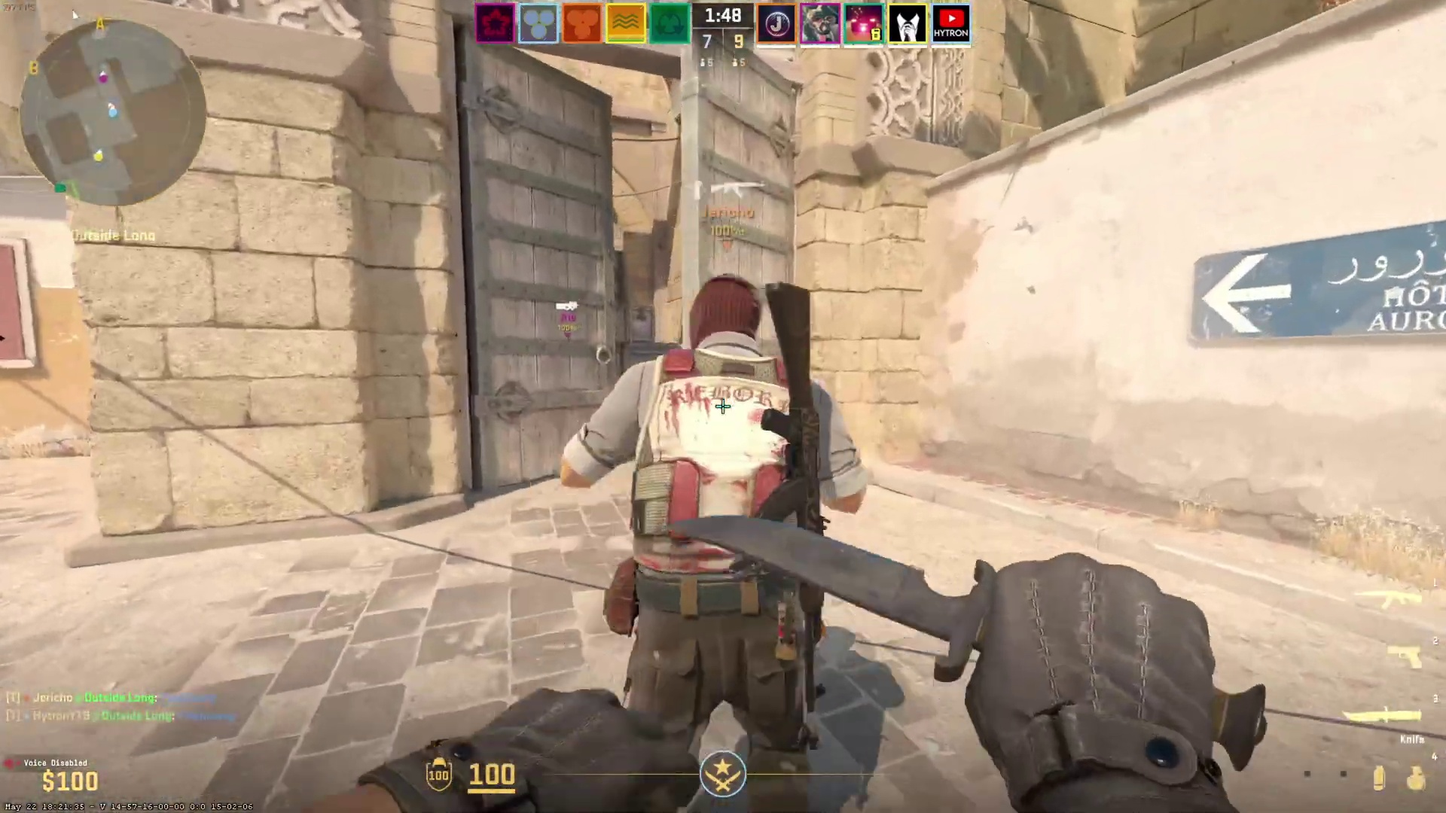Terrorist: (618, 275, 833, 805)
